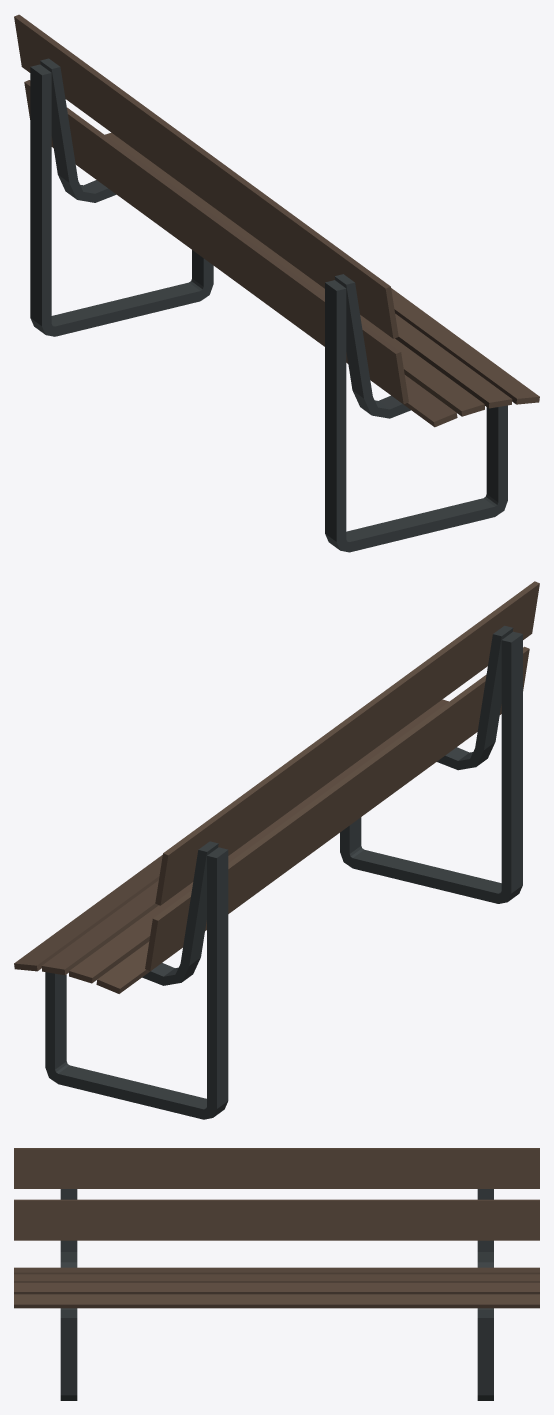
Rendered from bench.fbx.
3 views of the same model, one above another, from view 1: azimuth 30°, elevation 25°; view 2: azimuth 150°, elevation 25°; view 3: azimuth 270°, elevation 25° (orthographic). The views are drawn at different scales.
Parts seen in each view (by area): view 1: bench; view 2: bench; view 3: bench.
Boxes of the visible parts, bbox=[...] form: bench: bbox=[14, 14, 539, 552]; bench: bbox=[14, 581, 539, 1119]; bench: bbox=[14, 1148, 539, 1400].
Bounding box in the file's own units: 48.63 × 78.03 × 182.
